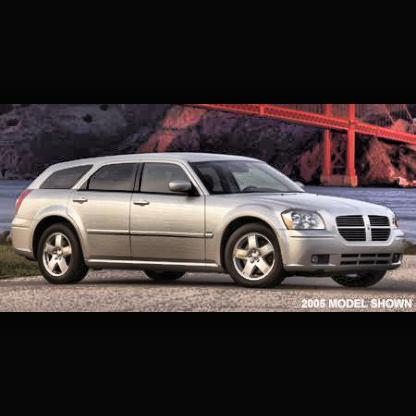Dodge Magnum Wagon 2008: (11, 153, 409, 288)
